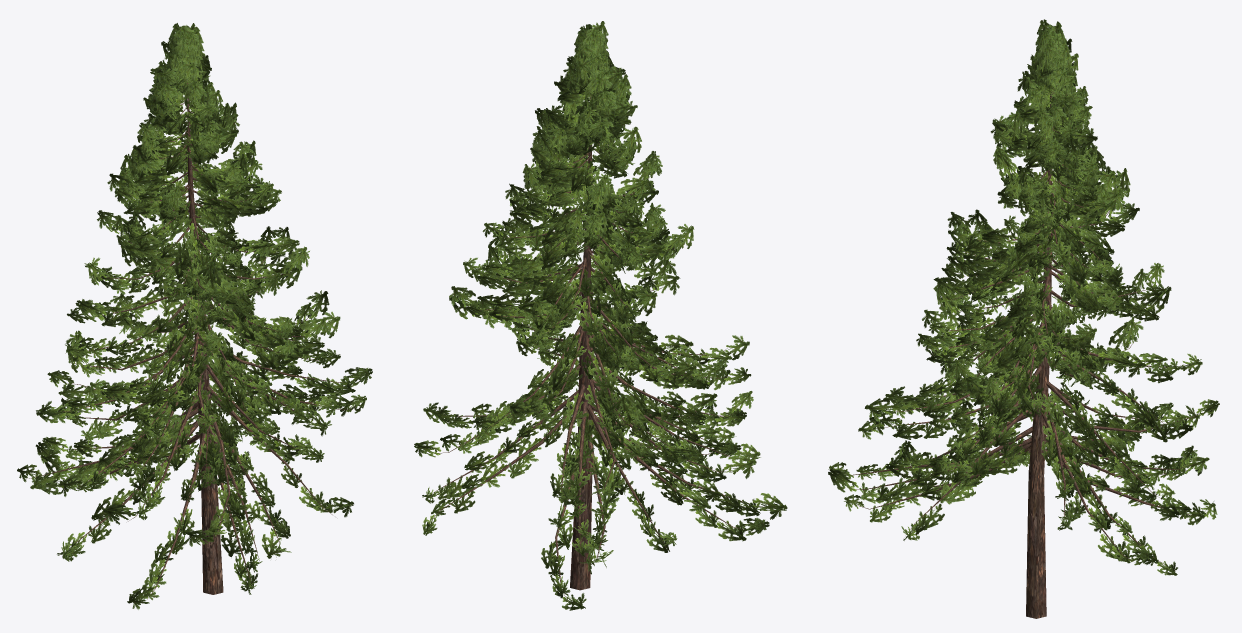
The model's file is pine-lod1.glb.
3 renders of one model, left to right at view 1: azimuth 30°, elevation 25°; view 2: azimuth 150°, elevation 25°; view 3: azimuth 270°, elevation 25°, orthographic. The views are drawn at different scales.
Parts seen in each view (by area): view 1: leaves, branches; view 2: leaves, branches; view 3: leaves, branches.
Part boxes in pixels (x1=…): leaves: x1=17, y1=23, x2=372, y2=609; branches: x1=26, y1=80, x2=354, y2=599; leaves: x1=414, y1=21, x2=787, y2=610; branches: x1=428, y1=96, x2=764, y2=598; leaves: x1=828, y1=19, x2=1219, y2=575; branches: x1=847, y1=88, x2=1207, y2=618.
Bounding box in the file's own units: 40.53 × 69.37 × 43.76.
2 materials, 2 textured.
